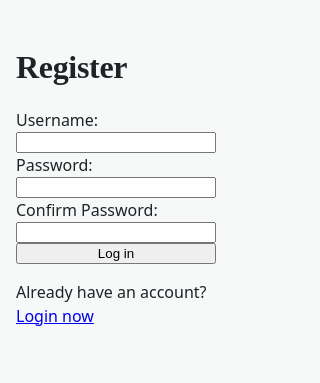
Scenario: RegisterPage validation › rejects a password with no uppercase letter
Step 1. Type "alice" into the field labelled "Username:" → (116, 142), box [16, 132, 216, 153]
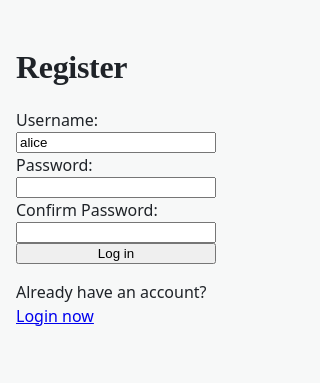
Step 2. Type "abcdefg1!" into the password field labelled "Password:" → (116, 187), box [16, 177, 216, 198]
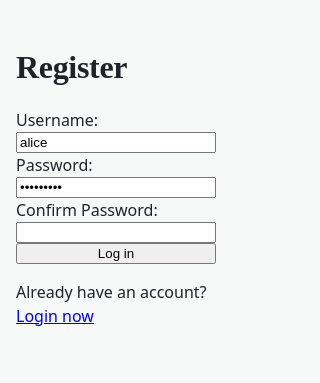
Step 3. Type "abcdefg1!" into the password field labelled "Confirm Password:" → (116, 232), box [16, 222, 216, 243]
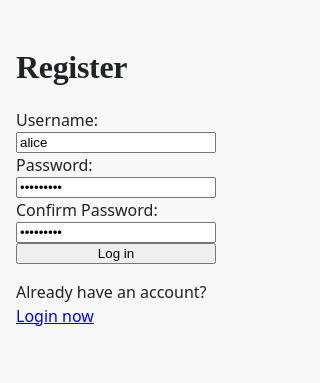
Step 4. Click the button "Log in" → (116, 253), box [16, 243, 216, 264]
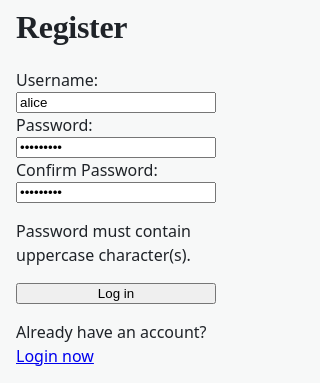
Expected: the text "Password must contain uppercase character(s)." is shown, [16, 219, 216, 267]
